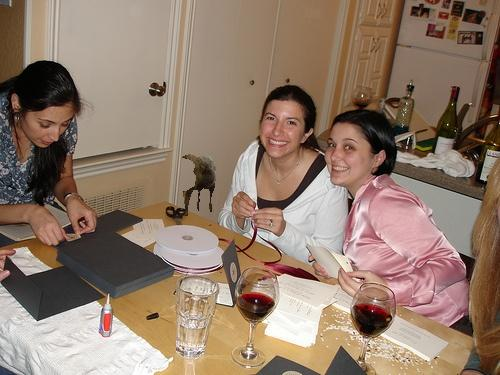tampered: (183, 155, 216, 216)
